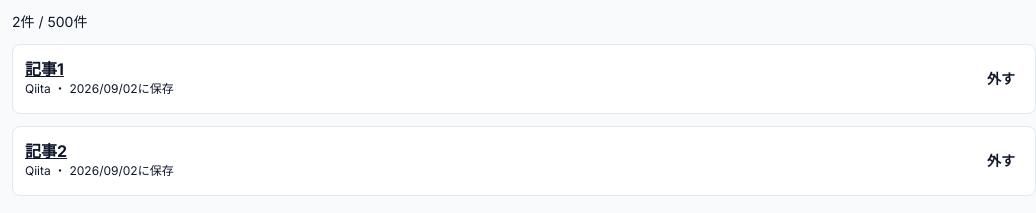
Scenario: SavedArticlesList › 「保存を外す」でAPIを呼び、その項目が消える
The width and height of the screenshot is (1036, 213).
What coordinates should you click on to do the following:
click the button with aria-label "保存を外す: 記事1"
I would click on:
 (1001, 79)
Its box is [979,57,1023,101].
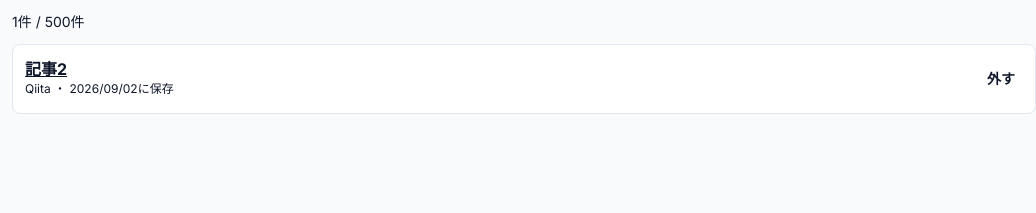
Expected: the link "記事2" is shown, [25,59,67,79]
Now the link "記事1" is gone
